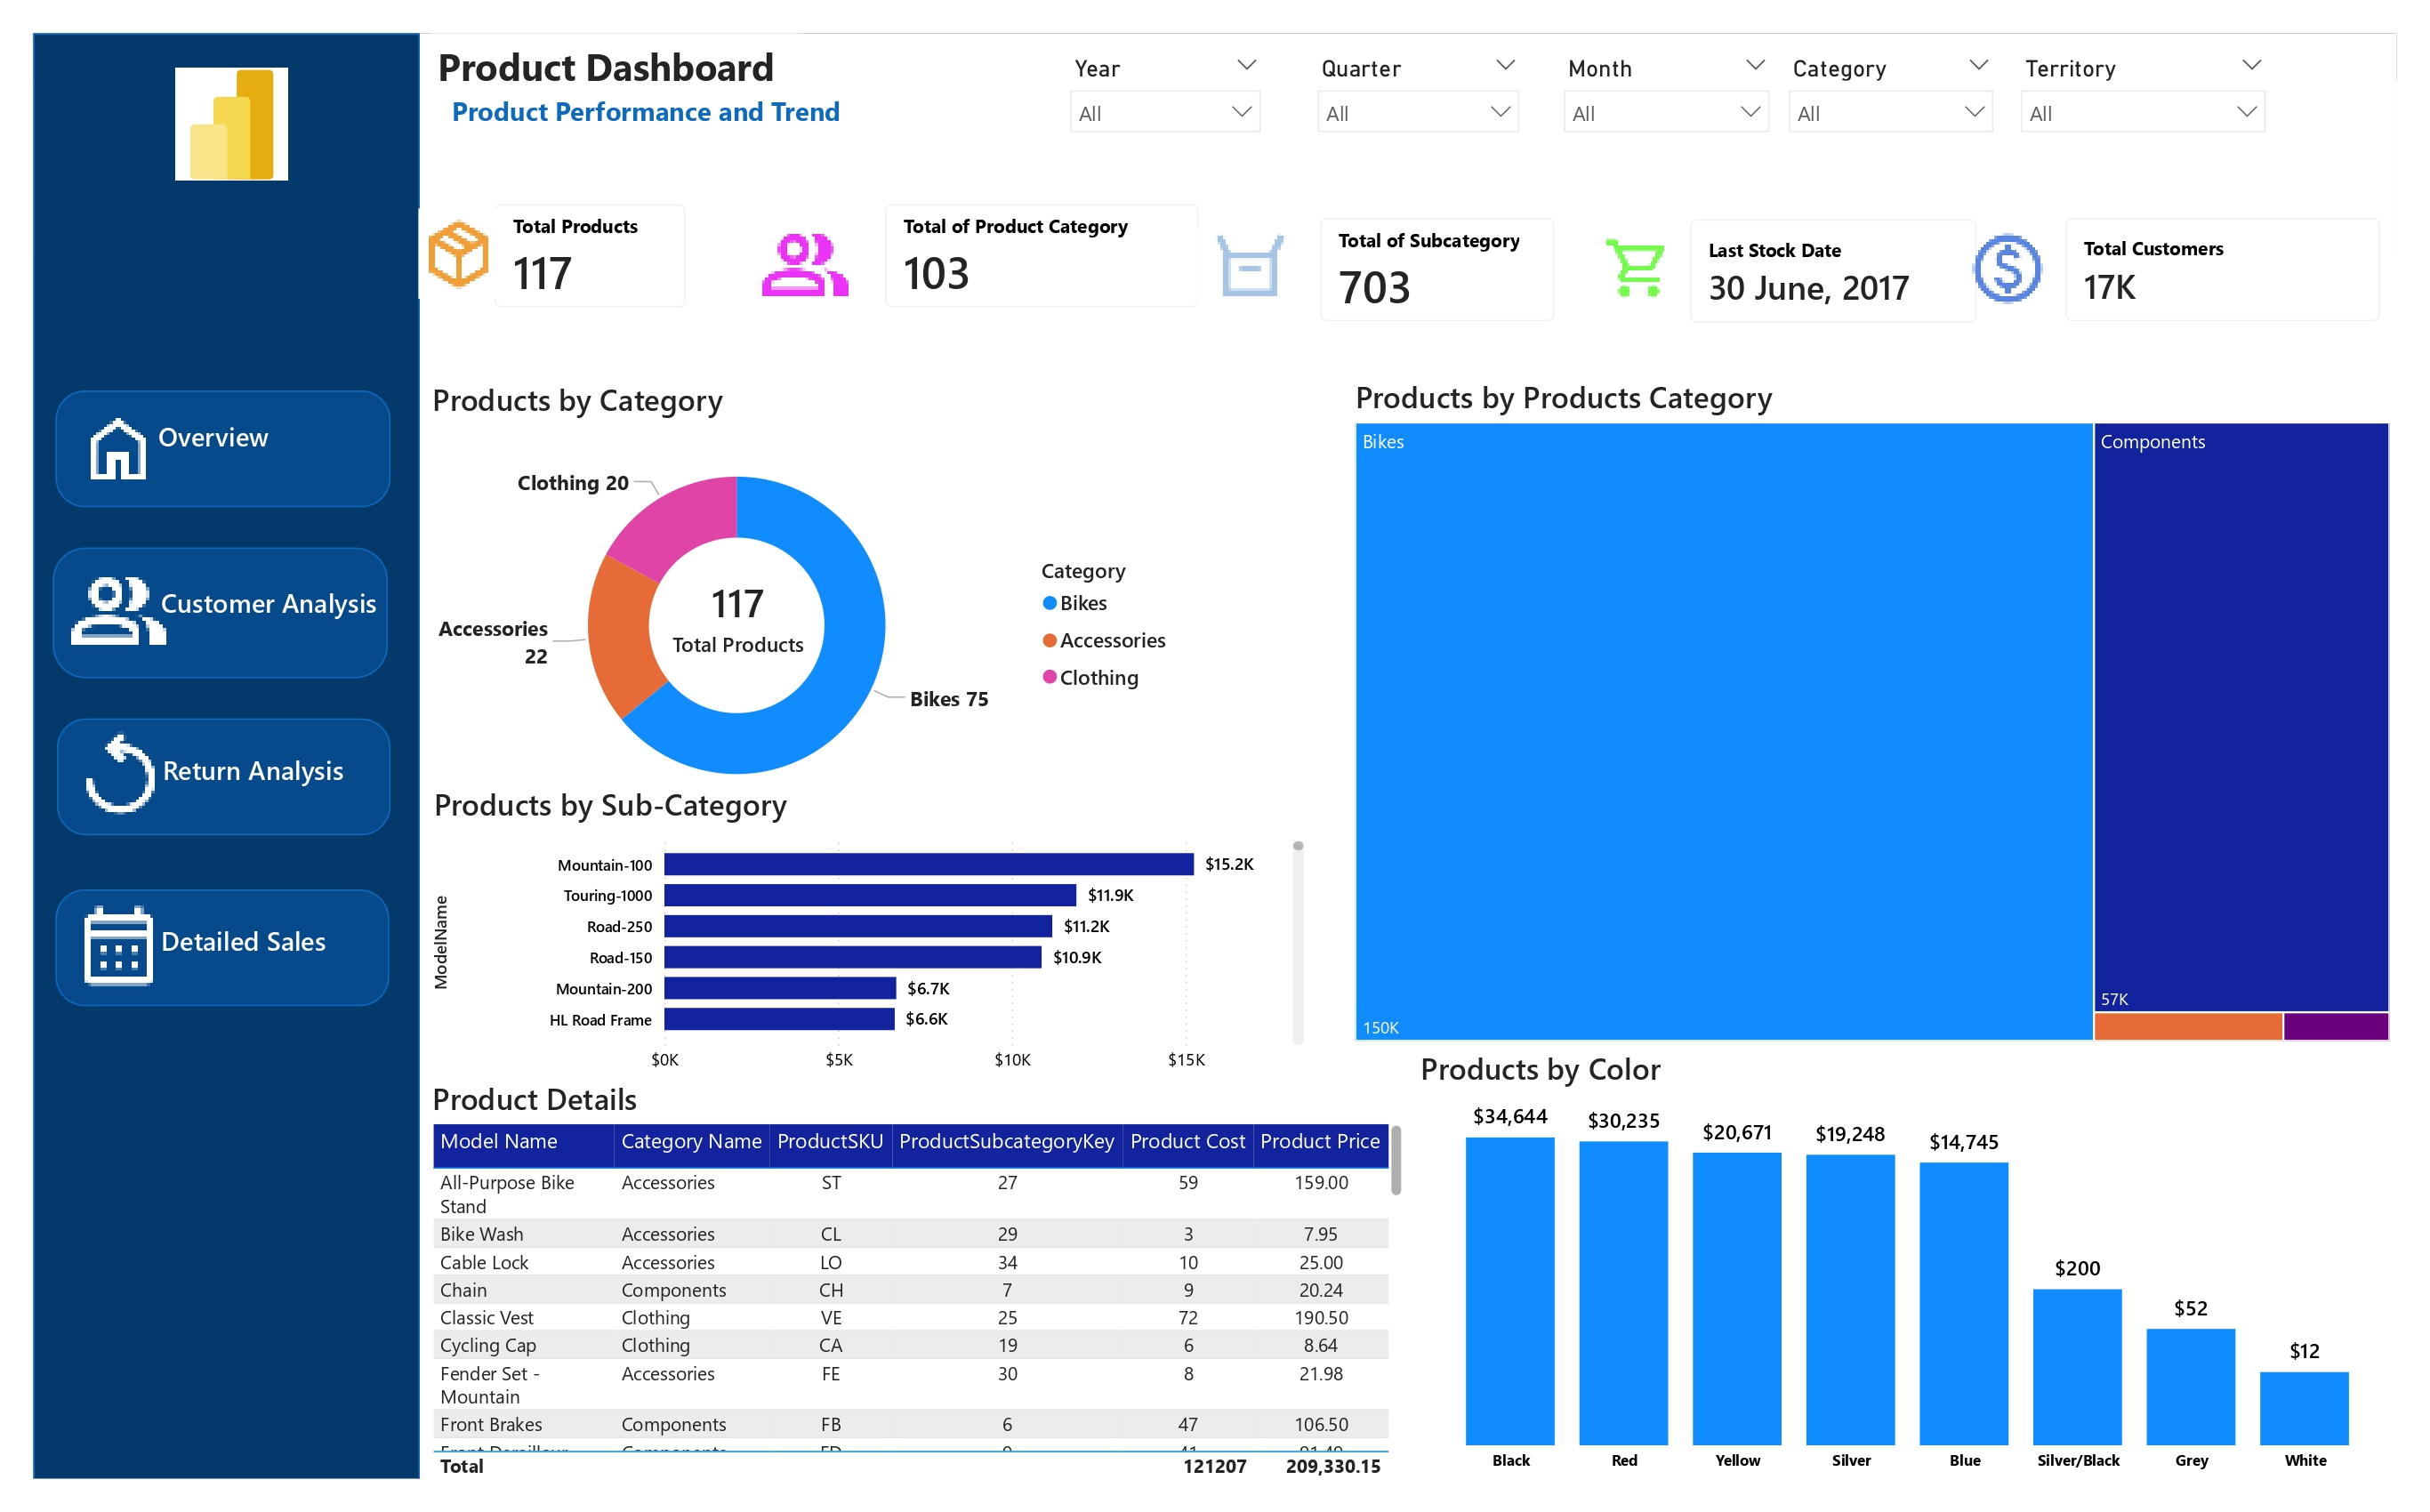

Layout of this report page (visuals, bound fields, positions):
{"tool":"powerbi","page":{"name":"Products Dashboard","canvas":[1700,1040],"ordinal":2},"visuals":[{"type":"shape","box":[0,0,278,1400],"z":0},{"type":"group","id":"g1","title":"Group 2","box":[1129.5,131.8,50,74.3],"z":1000},{"type":"shape","box":[16.1,257.3,241.4,84.3],"z":1000,"group":"g3"},{"type":"shape","box":[14,370,241.4,94.3],"z":1000,"group":"g10"},{"type":"shape","box":[16.6,493.4,240,84.3],"z":1000,"group":"g11"},{"type":"shape","box":[16,616,240,84.3],"z":1000,"group":"g12"},{"type":"group","id":"g2","title":"Group 3","box":[515.5,133.2,78.6,67.1],"z":2000},{"type":"image","box":[78.2,25.4,128.9,80.3],"z":3000},{"type":"cardVisual","fields":{"Data":["sales.Total Products"]},"box":[319.7,105.7,161.7,102.9],"z":3000,"group":"g8"},{"type":"group","id":"g3","title":"Group 8","box":[16.1,257.3,241.4,84.3],"z":4000},{"type":"group","id":"g4","title":"Group 7","box":[31.3,267.4,208.1,64.3],"z":4000,"group":"g3"},{"type":"image","box":[31.3,267.4,60,64.3],"z":4000,"group":"g4"},{"type":"group","id":"g5","title":"Group 7","box":[24.6,377.6,230.2,75.1],"z":4000,"group":"g10"},{"type":"image","box":[24.6,377.6,72.9,75.1],"z":4000,"group":"g5"},{"type":"group","id":"g6","title":"Group 7","box":[25.9,500.4,230.2,67.1],"z":4000,"group":"g11"},{"type":"image","box":[25.9,500.4,72.9,67.1],"z":4000,"group":"g6"},{"type":"group","id":"g7","title":"Group 7","box":[25.3,623,230.2,67.1],"z":4000,"group":"g12"},{"type":"image","box":[25.3,623,72.9,67.1],"z":4000,"group":"g7"},{"type":"group","id":"g8","title":"Group 4","box":[277.1,105.7,204.3,102.9],"z":5000},{"type":"textbox","box":[85.1,272.5,154.3,48.6],"z":5000,"group":"g4"},{"type":"textbox","box":[86.2,391.2,168.6,51.2],"z":5000,"group":"g5"},{"type":"textbox","box":[87.5,512.6,168.6,45.7],"z":5000,"group":"g6"},{"type":"textbox","box":[86.9,635.2,168.6,45.7],"z":5000,"group":"g7"},{"type":"cardVisual","fields":{"Data":["Sum(Merge.ProductCategoryKey)"]},"box":[601.4,105.7,248.6,102.9],"z":6000},{"type":"image","box":[1129.5,131.8,50,74.3],"z":6000,"group":"g1"},{"type":"image","box":[515.5,133.2,78.6,67.1],"z":7000,"group":"g2"},{"type":"group","id":"g9","title":"Group 5","box":[837.1,140,77.1,58.6],"z":7000},{"type":"image","box":[277.1,125.4,57.7,65.4],"z":8000,"group":"g8"},{"type":"group","id":"g10","title":"Group 8","box":[14,370,240,94],"z":8000},{"type":"image","box":[837.1,140,77.1,58.6],"z":9000,"group":"g9"},{"type":"group","id":"g11","title":"Group 8","box":[16.6,493.4,240,84.3],"z":9000},{"type":"group","id":"g12","title":"Group 8","box":[16,616,240,84],"z":10000},{"type":"textbox","box":[285.7,0,267.1,55.7],"z":11000},{"type":"textbox","box":[296,38,298,40],"z":12000},{"type":"slicer","fields":{"Values":["calendar.Year"]},"box":[735.7,10,157.1,68.6],"z":13000},{"type":"slicer","fields":{"Values":["calendar.Quarter"]},"box":[914.3,10,164.3,68.6],"z":14000},{"type":"slicer","fields":{"Values":["calendar.Month Name"]},"box":[1091.4,10,167.1,68.6],"z":15000},{"type":"slicer","fields":{"Values":["Merge.CategoryName"]},"box":[1252.9,10,167.1,68.6],"z":16000},{"type":"slicer","fields":{"Values":["sales.TerritoryKey"]},"box":[1420,10,195.7,68.6],"z":17000},{"type":"donutChart","title":"Products by Category","fields":{"Category":["Merge.CategoryName"],"Y":["sales.Total Products"]},"box":[287.1,248.6,537.1,321.4],"z":18000},{"type":"cardVisual","fields":{"Data":["sales.Total Products"]},"box":[420,352,174,134],"z":19000},{"type":"clusteredBarChart","title":"Products by Sub-Category","fields":{"Category":["product.ModelName"],"Y":["product.Total Product Cost"]},"box":[288,540,626,212],"z":20000},{"type":"tableEx","title":"Product Details","fields":{"Values":["product.ModelName","Merge.CategoryName","product.ProductSKU","product.ProductSubcategoryKey","Sum(product.ProductCost)","Sum(product.ProductPrice)"]},"box":[286.7,751.7,698.3,288.3],"z":21000},{"type":"clusteredColumnChart","title":"Products by Color","fields":{"Category":["product.ProductColor"],"Y":["product.Total Product Cost"]},"box":[998,730,702,310],"z":22000},{"type":"cardVisual","fields":{"Data":["Sum(Merge.ProductSubcategoryKey)"]},"box":[914.3,115.7,191.4,102.9],"z":23000},{"type":"cardVisual","fields":{"Data":["calendar.Last Stock Date","calendar.Last Stock Date"]},"box":[1180,117.1,230,102.9],"z":24000},{"type":"cardVisual","fields":{"Data":["sales.Total Customers","sales.Total Customers"]},"box":[1450,115.7,250,102.9],"z":25000},{"type":"image","box":[1385.7,140,68.6,58.6],"z":26000},{"type":"treemap","title":"Products by Products Category","fields":{"Group":["Merge.CategoryName"],"Values":["Sum(product.ProductPrice)"]},"box":[945.7,247.1,754.3,482.9],"z":27000},{"type":"actionButton","box":[34,272,172,48],"z":28000},{"type":"actionButton","box":[34,380,206,64],"z":29000},{"type":"actionButton","box":[42,496,198,74],"z":30000},{"type":"actionButton","box":[26,632,196,58],"z":31000}]}

Visuals, with their boxes on the page's 1700x1040 design canvas (x1, y1, x2, y2). These are canvas units, not pixel positions in the 2430x1512 screenshot, which may show the page scaled, cropped or inside an application window:
shape: (0,0,278,1400)
"Group 2" group: (1130,132,1180,206)
shape: (16,257,258,342)
shape: (14,370,255,464)
shape: (17,493,257,578)
shape: (16,616,256,700)
"Group 3" group: (516,133,594,200)
image: (78,25,207,106)
cardVisual - sales.Total Products: (320,106,481,209)
"Group 8" group: (16,257,258,342)
"Group 7" group: (31,267,239,332)
image: (31,267,91,332)
"Group 7" group: (25,378,255,453)
image: (25,378,98,453)
"Group 7" group: (26,500,256,568)
image: (26,500,99,568)
"Group 7" group: (25,623,256,690)
image: (25,623,98,690)
"Group 4" group: (277,106,481,209)
textbox: (85,272,239,321)
textbox: (86,391,255,442)
textbox: (88,513,256,558)
textbox: (87,635,256,681)
cardVisual - Sum(Merge.ProductCategoryKey): (601,106,850,209)
image: (1130,132,1180,206)
image: (516,133,594,200)
"Group 5" group: (837,140,914,199)
image: (277,125,335,191)
"Group 8" group: (14,370,254,464)
image: (837,140,914,199)
"Group 8" group: (17,493,257,578)
"Group 8" group: (16,616,256,700)
textbox: (286,0,553,56)
textbox: (296,38,594,78)
slicer - calendar.Year: (736,10,893,79)
slicer - calendar.Quarter: (914,10,1079,79)
slicer - calendar.Month Name: (1091,10,1258,79)
slicer - Merge.CategoryName: (1253,10,1420,79)
slicer - sales.TerritoryKey: (1420,10,1616,79)
"Products by Category" donutChart: (287,249,824,570)
cardVisual - sales.Total Products: (420,352,594,486)
"Products by Sub-Category" clusteredBarChart: (288,540,914,752)
"Product Details" tableEx: (287,752,985,1040)
"Products by Color" clusteredColumnChart: (998,730,1700,1040)
cardVisual - Sum(Merge.ProductSubcategoryKey): (914,116,1106,219)
cardVisual - calendar.Last Stock Date x calendar.Last Stock Date: (1180,117,1410,220)
cardVisual - sales.Total Customers x sales.Total Customers: (1450,116,1700,219)
image: (1386,140,1454,199)
"Products by Products Category" treemap: (946,247,1700,730)
actionButton: (34,272,206,320)
actionButton: (34,380,240,444)
actionButton: (42,496,240,570)
actionButton: (26,632,222,690)
